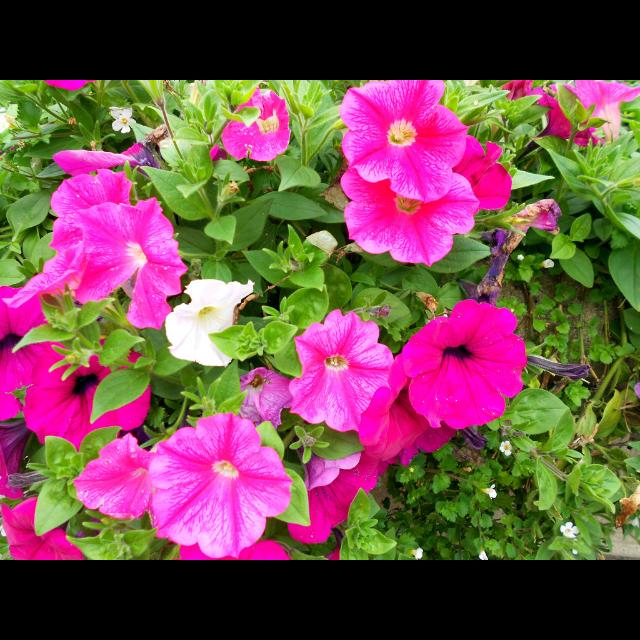Flower: (0, 168, 136, 346), (146, 412, 292, 560), (381, 300, 521, 432), (66, 194, 194, 332), (0, 340, 154, 450), (334, 80, 466, 208), (289, 434, 439, 540), (338, 165, 477, 272), (293, 308, 392, 442), (166, 279, 252, 369), (78, 432, 154, 522), (220, 86, 292, 164), (0, 497, 84, 558), (565, 80, 639, 148), (236, 366, 294, 436), (180, 544, 288, 560)
